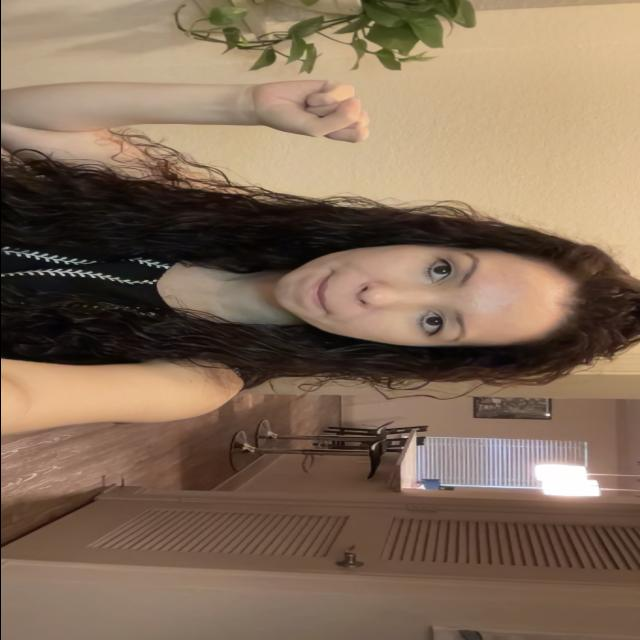Rock: (245, 80, 372, 144)
